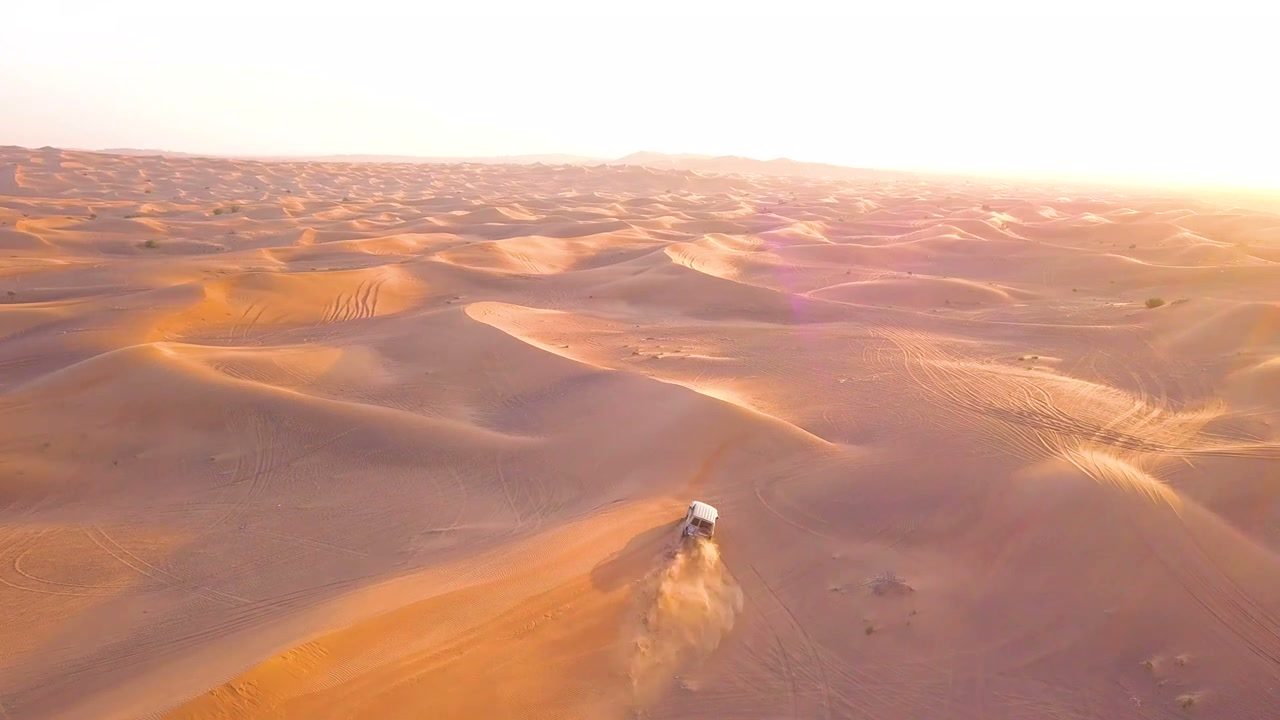vehicle_track: (887, 329, 1279, 460), (59, 571, 381, 683), (1139, 526, 1279, 679), (202, 413, 354, 533), (1180, 534, 1279, 678), (84, 526, 250, 605), (749, 565, 831, 719), (0, 529, 150, 596), (12, 531, 153, 595), (204, 412, 278, 533), (208, 547, 315, 586), (245, 527, 367, 557), (317, 275, 385, 324), (947, 653, 989, 719), (496, 458, 524, 528), (271, 352, 321, 387), (226, 302, 266, 341), (352, 274, 385, 318), (239, 304, 268, 341)
